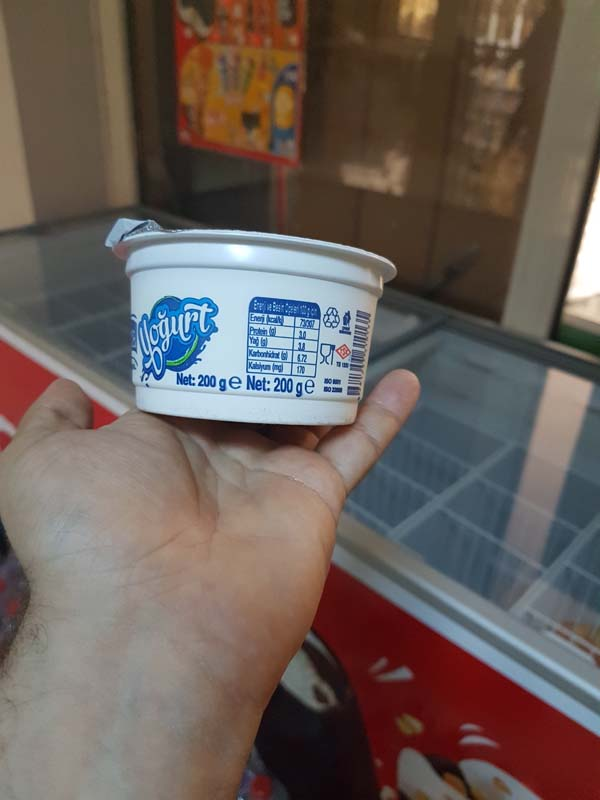camlicayogurt: (100, 211, 401, 430)
